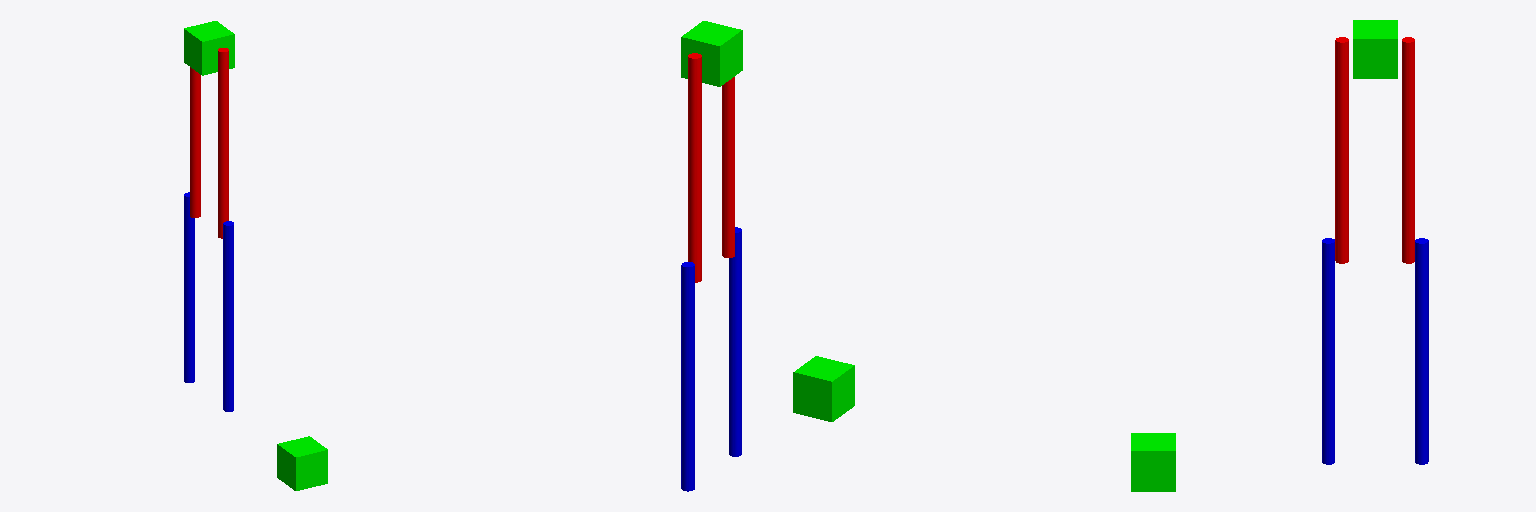
robot.urdf — biped_robot:
<?xml version="1.0"?>

<robot name="biped_robot">
  <link name="base_link">
    <visual>
      <geometry>
         <box size=".2 .2 .2" />
      </geometry>
      <material name="green">
	       <color rgba="0 1 0 1" />
      </material>
    </visual>
  </link>

   <joint name="base_to_hips_joint" type="floating">
    <parent link="base_link" />
    <child link="hips_link" />
    <origin xyz="0 1 2.05" rpy="0 0 0"/>
    <dynamics damping="0" />
  </joint>

  <link name="hips_link">
    <inertial>
      <origin xyz="0 0 0" rpy="0 0 0" />
      <mass value="1" />
      <inertia ixx="1" ixy="0" ixz="0" iyy="0.083" iyz="0" izz="1" />
    </inertial>
     <visual>
      <origin xyz="0 0 0" rpy="0 0 0" />
      <geometry>
         <box size=".2 .2 .2" />
      </geometry>
      <material name="green">
	       <color rgba="0 1 0 1" />
      </material>
    </visual>
  </link>

<joint name="r_hips_joint" type="continuous">
    <parent link="hips_link" />
    <child link="r_thigh_link" />
    <origin xyz="0 -.15 0" />
    <axis xyz="0 1 0" />
    <dynamics damping="1" />
  </joint>

   <link name="r_thigh_link">
    <inertial>
      <origin xyz="0 0 -.5" rpy="0 0 0" />
      <mass value="1" />
      <inertia ixx="1" ixy="0" ixz="0" iyy="0.083" iyz="0" izz="1" />
    </inertial>
    <visual>
      <origin xyz="0 0 -.5" rpy="0 0 0" />
      <geometry>
         <cylinder length="1.1" radius=".03" />
      </geometry>
      <material name="red">
	       <color rgba="1 0 0 1" />
      </material>
    </visual>
  </link>

  <joint name="l_hips_joint" type="continuous">
    <parent link="hips_link" />
    <child link="l_thigh_link" />
    <origin xyz="0 .15 0" />
    <axis xyz="0 1 0" />
    <dynamics damping="0.1" />
  </joint>

   <link name="l_thigh_link">
    <inertial>
      <origin xyz="0 0 -.5" rpy="0 0 0" />
      <mass value="1" />
      <inertia ixx="1" ixy="0" ixz="0" iyy="0.083" iyz="0" izz="1" />
    </inertial>
    <visual>
      <origin xyz="0 0 -.5" rpy="0 0 0" />
      <geometry>
         <cylinder length="1.1" radius=".03" />
      </geometry>
      <material name="red">
	       <color rgba="1 0 0 1" />
      </material>
    </visual>
  </link>

<joint name="r_knee_joint" type="continuous">
    <parent link="r_thigh_link" />
    <child link="r_leg_link" />
    <origin xyz="0 0 -1" />
    <axis xyz="0 1 0" />
    <dynamics damping="1" />
  </joint>

  <link name="r_leg_link">
    <inertial>
      <origin xyz="0 0 -0.5" rpy="0 0 0" />
      <mass value="1" />
      <inertia ixx="1" ixy="0" ixz="0" iyy="0.33" iyz="0" izz="1" />
    </inertial>
    <visual>
      <origin xyz="0 -0.06 -0.5" rpy="0 0 0" />
      <geometry>
         <cylinder length="1.1" radius=".03" />
      </geometry>
      <material name="blue">
	       <color rgba="0 0 1 1" />
      </material>
    </visual>
  </link> -->

<joint name="l_knee_joint" type="continuous">
    <parent link="l_thigh_link" />
    <child link="l_leg_link" />
    <origin xyz="0 0 -1" />
    <axis xyz="0 1 0" />
    <dynamics damping="1" />
  </joint>

  <link name="l_leg_link">
    <inertial>
      <origin xyz="0 0 -0.5" rpy="0 0 0" />
      <mass value="1" />
      <inertia ixx="1" ixy="0" ixz="0" iyy="0.33" iyz="0" izz="1" />
    </inertial>
    <visual>
      <origin xyz="0 0.06 -0.5" rpy="0 0 0" />
      <geometry>
         <cylinder length="1.1" radius=".03" />
      </geometry>
      <material name="blue">
	       <color rgba="0 0 1 1" />
      </material>
    </visual>
  </link> -->

</robot>

--- Render facts (derived) ---
Views: 3 orthographic renders of the robot side by side, from view 1: azimuth 30°, elevation 25°; view 2: azimuth 150°, elevation 25°; view 3: azimuth 270°, elevation 25°.
Robot: biped_robot — 6 links, 5 joints (4 continuous, 1 floating); root link base_link; default pose: all joints at 0.
Visible links, largest first — view 1: base_link, r_leg_link, hips_link, r_thigh_link, l_leg_link, l_thigh_link; view 2: base_link, l_leg_link, l_thigh_link, hips_link, r_leg_link, r_thigh_link; view 3: r_thigh_link, l_leg_link, r_leg_link, l_thigh_link, base_link, hips_link.
Link boxes in pixels (bbox=[...]): base_link: bbox=[277, 436, 327, 490]; r_leg_link: bbox=[223, 221, 233, 411]; hips_link: bbox=[184, 21, 234, 75]; r_thigh_link: bbox=[218, 48, 228, 238]; l_leg_link: bbox=[184, 192, 194, 382]; l_thigh_link: bbox=[190, 67, 200, 217]; base_link: bbox=[793, 356, 854, 421]; l_leg_link: bbox=[681, 262, 694, 491]; l_thigh_link: bbox=[688, 53, 701, 282]; hips_link: bbox=[681, 21, 742, 86]; r_leg_link: bbox=[729, 227, 741, 456]; r_thigh_link: bbox=[722, 77, 734, 257]; r_thigh_link: bbox=[1335, 37, 1348, 263]; l_leg_link: bbox=[1415, 238, 1428, 464]; r_leg_link: bbox=[1322, 238, 1334, 464]; l_thigh_link: bbox=[1402, 37, 1414, 263]; base_link: bbox=[1131, 433, 1175, 491]; hips_link: bbox=[1353, 20, 1397, 78].
Size in the robot's own frame: 0.2 by 1.34 by 2.25 metres.
Geometry: primitives only (box / cylinder / sphere), no mesh files.
